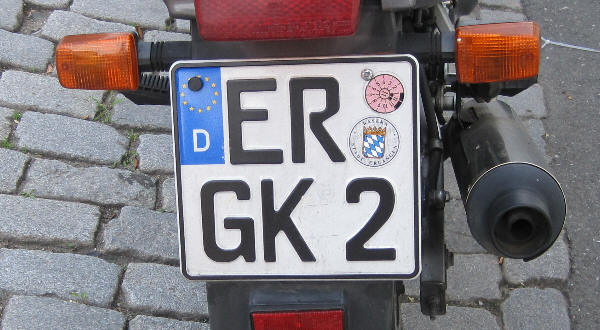license_plate: (169, 55, 419, 279)
